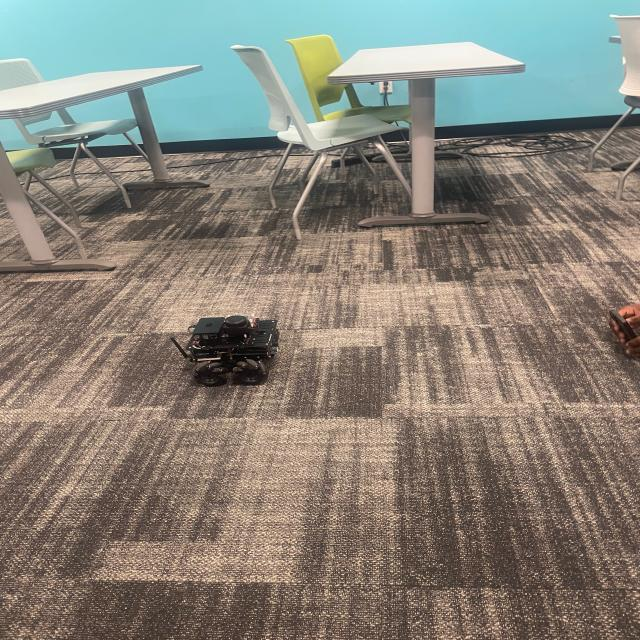ArduinoCar3: (178, 311, 284, 388)
